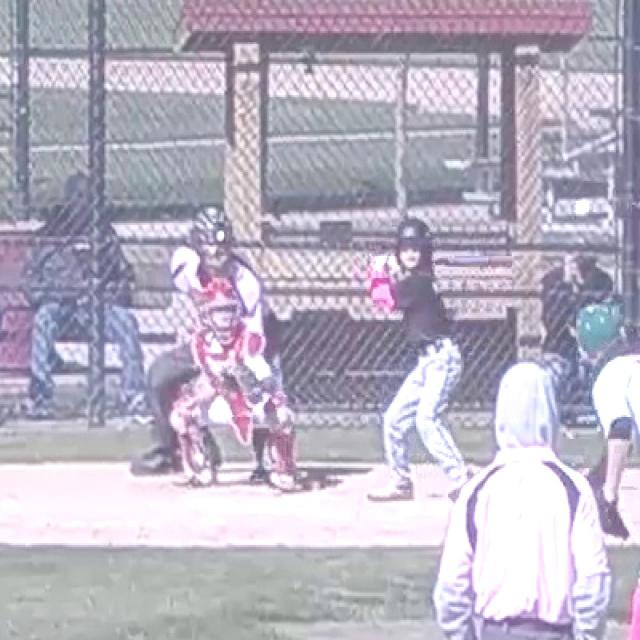baseball: (576, 201, 590, 215)
